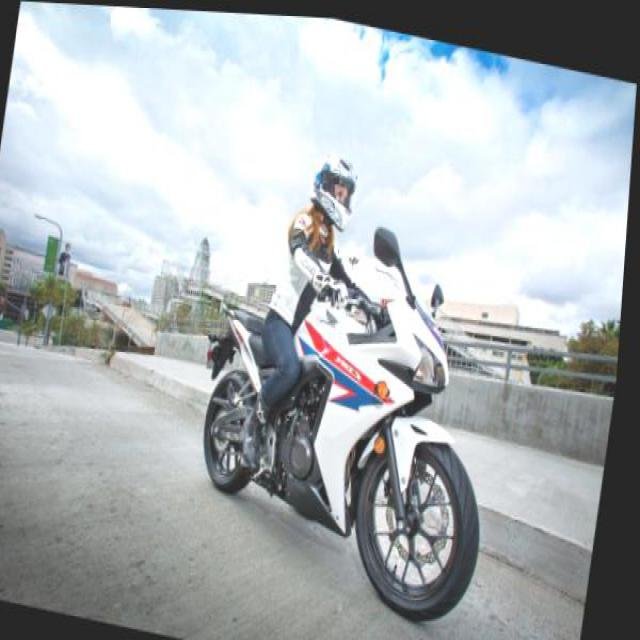CBR500R: (183, 225, 519, 626)
